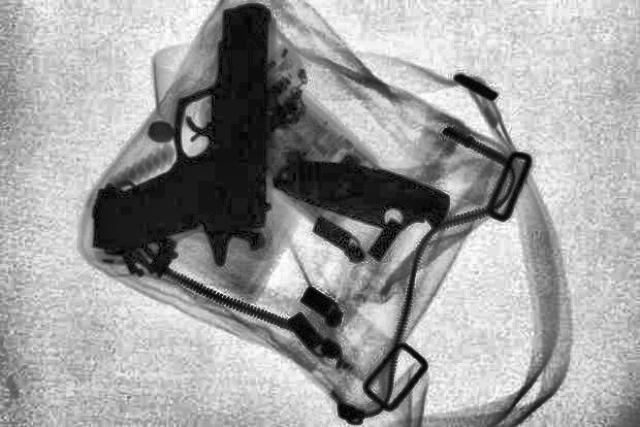Gun: (88, 2, 272, 274)
